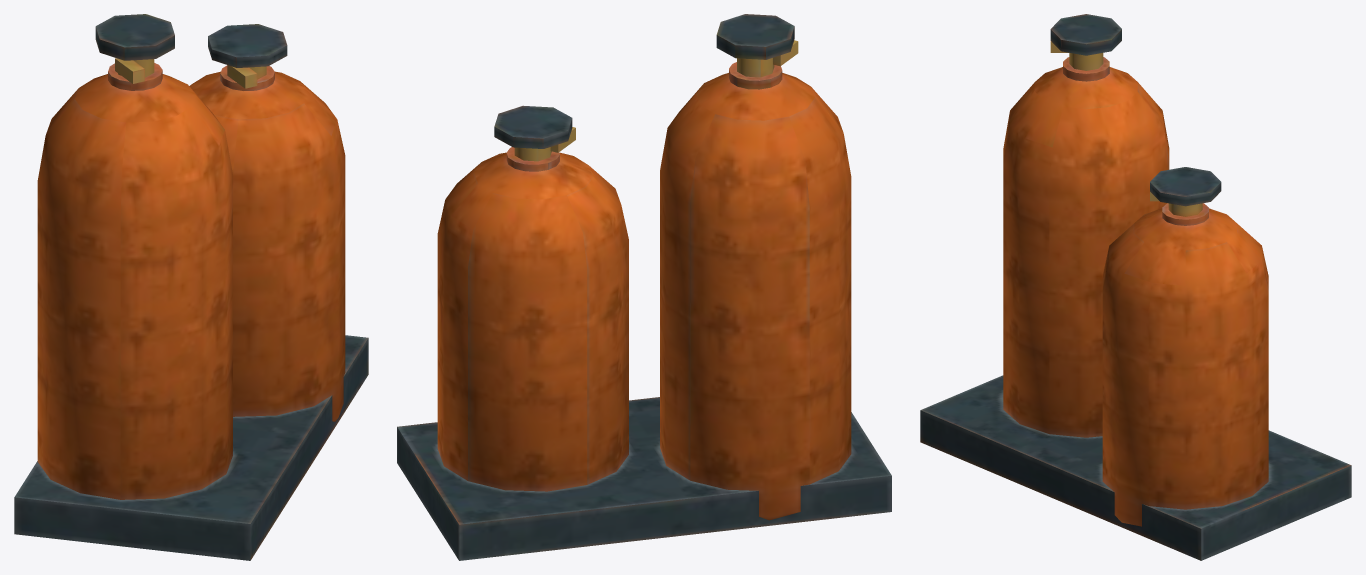
Rendered from methane.glb.
The picture shows the model from 3 angles, left to right: view 1: azimuth 30°, elevation 25°; view 2: azimuth 150°, elevation 25°; view 3: azimuth 270°, elevation 25°; orthographic projection. The views are drawn at different scales.
Visible parts, largest first — view 1: te_res_methane; view 2: te_res_methane; view 3: te_res_methane.
Boxes of the visible parts, x1,y1,x2,y2 form: te_res_methane: (14,14,368,560); te_res_methane: (397,14,891,560); te_res_methane: (920,14,1351,560).
Bounding box in the file's own units: 0.6081 × 0.63 × 0.6081.
Materials: 1 (1 with a texture image).
